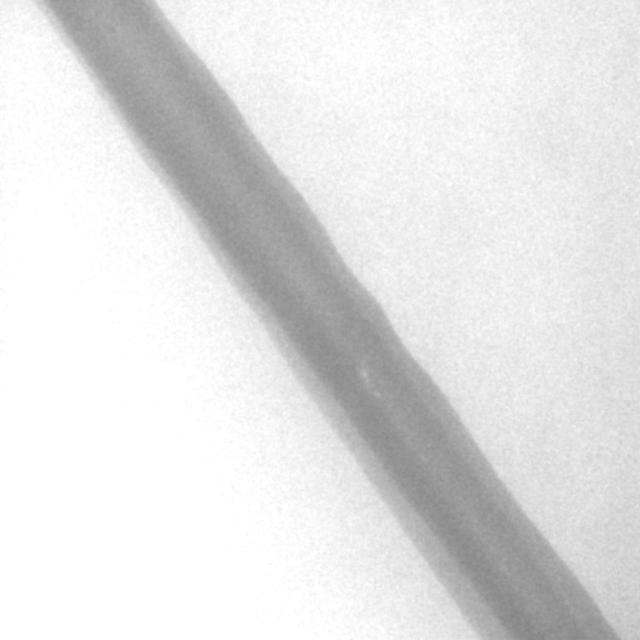air hole: (358, 366, 370, 382), (372, 387, 383, 401)
